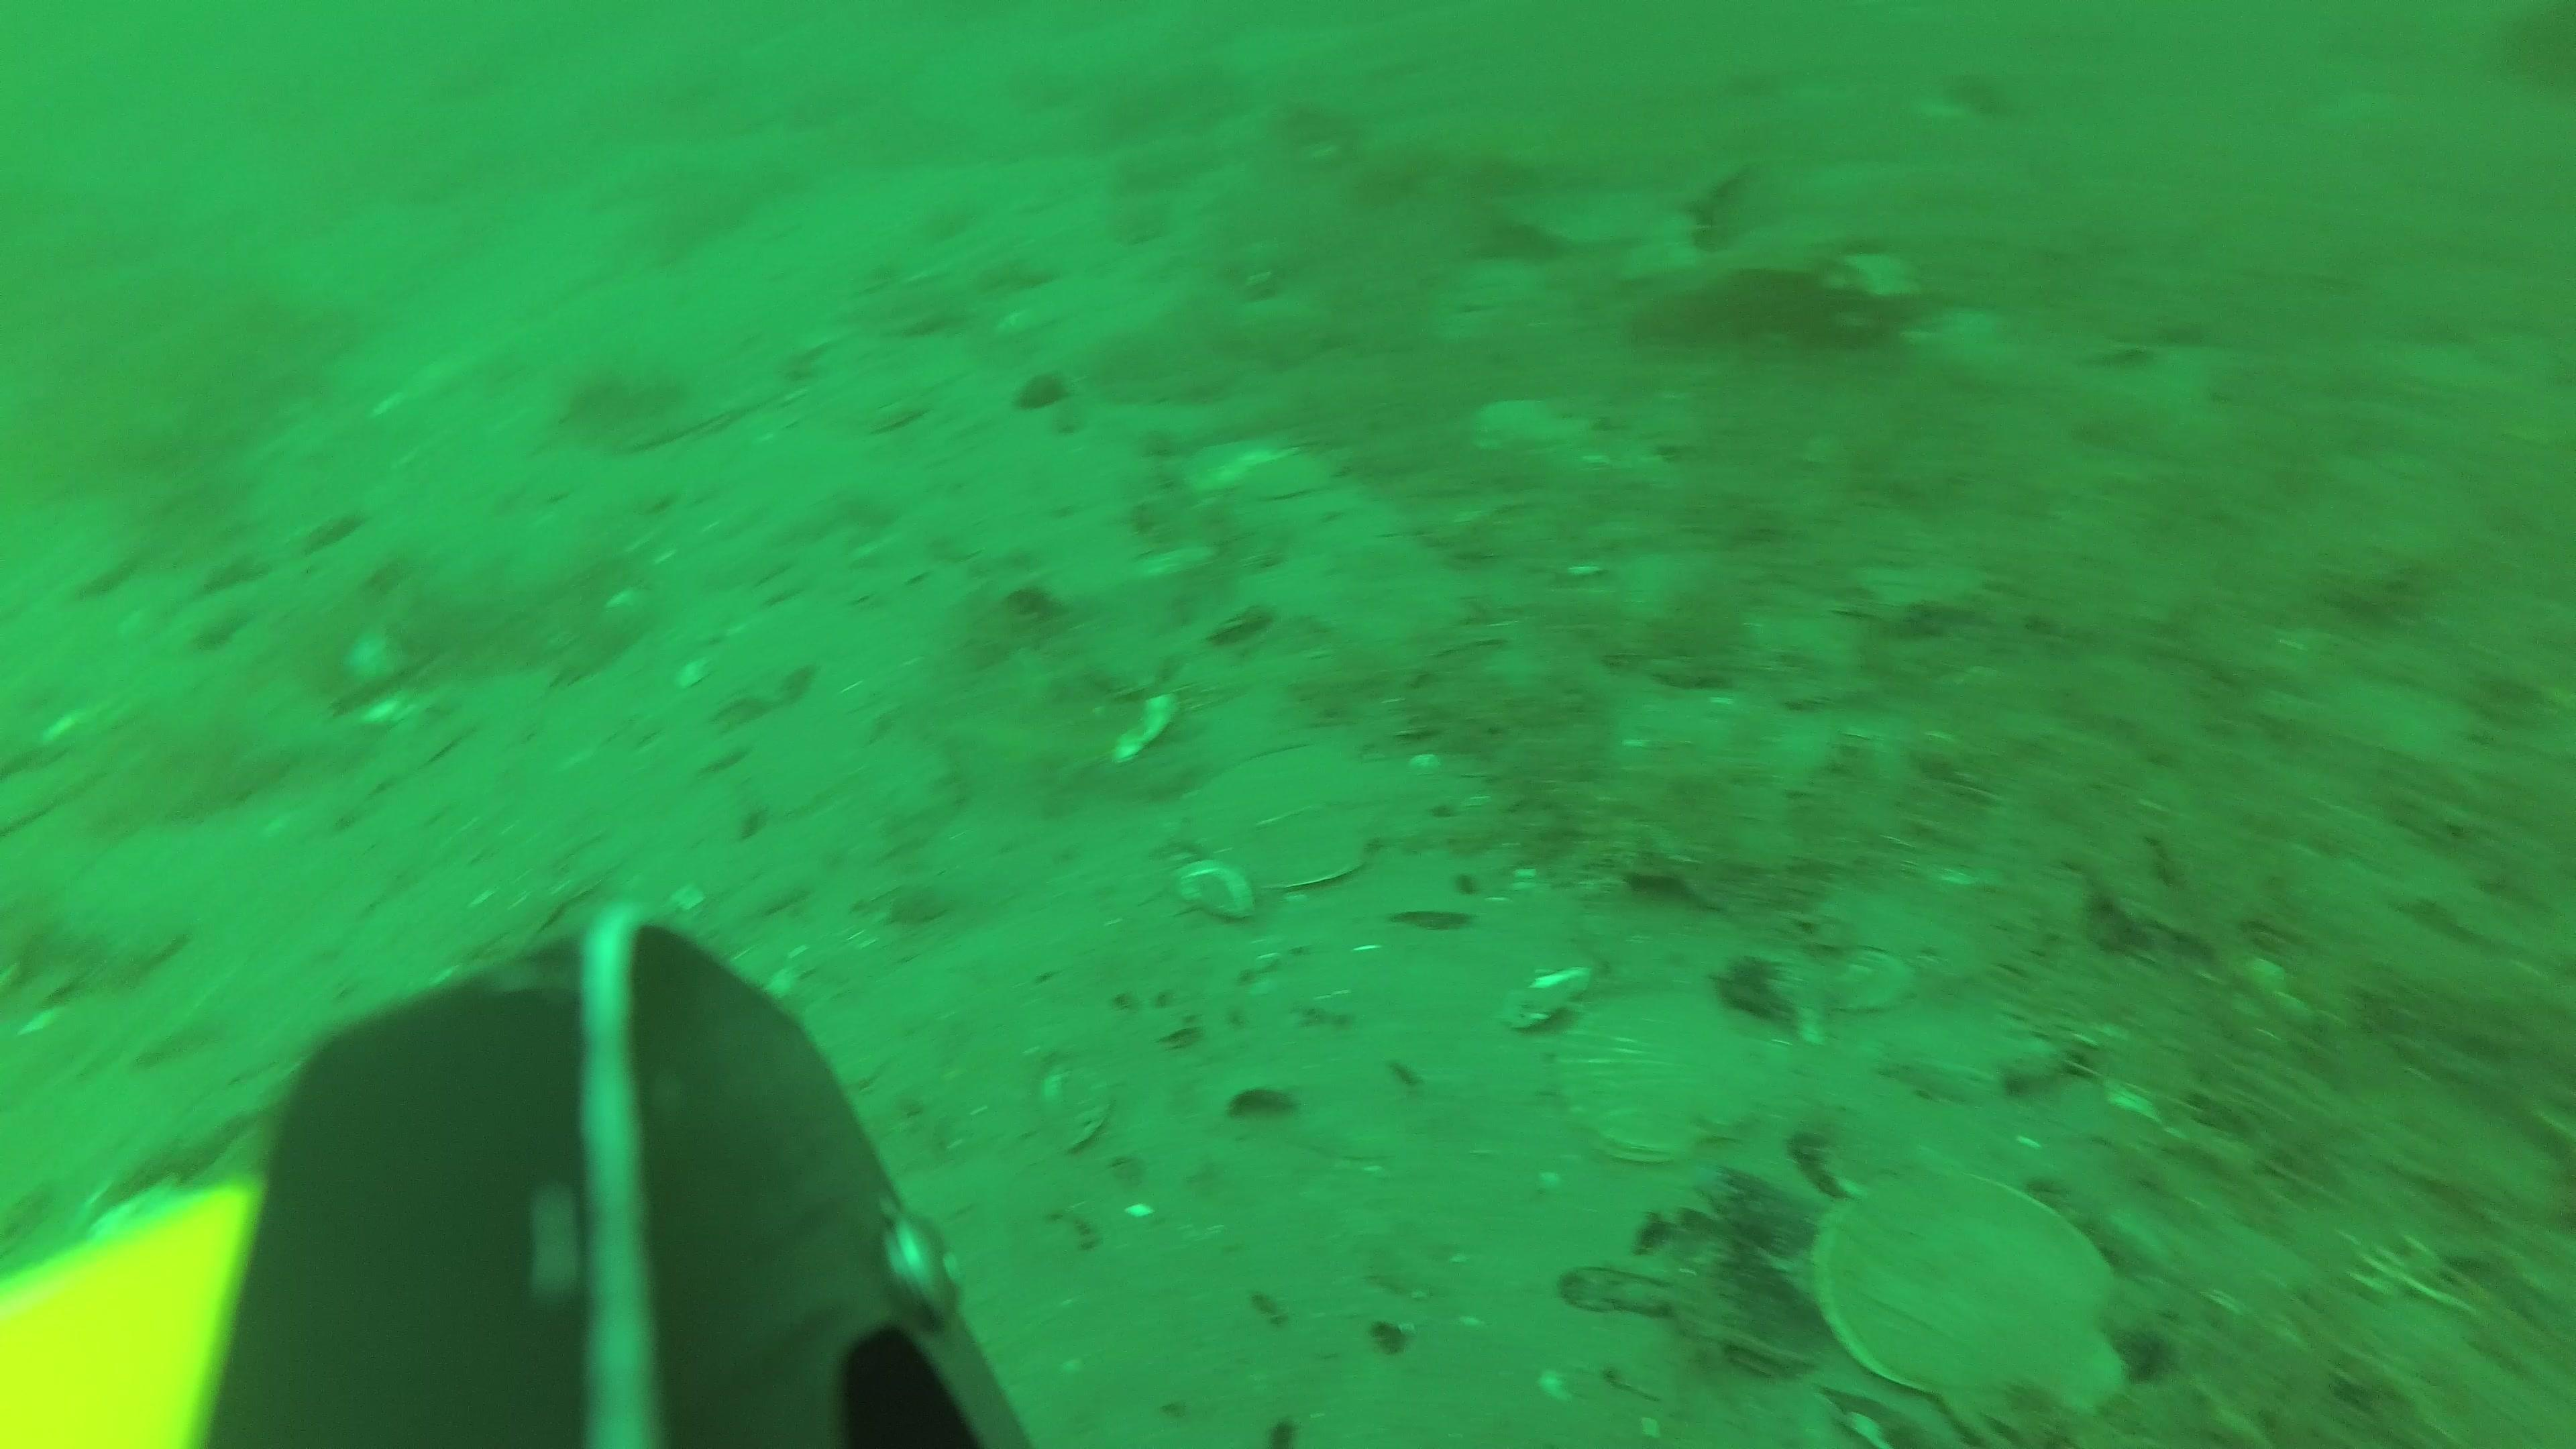scallop: (1815, 1166, 2123, 1442), (1564, 980, 1769, 1161), (1175, 747, 1403, 888), (1184, 433, 1292, 499), (1468, 395, 1580, 456), (1240, 456, 1336, 502)
